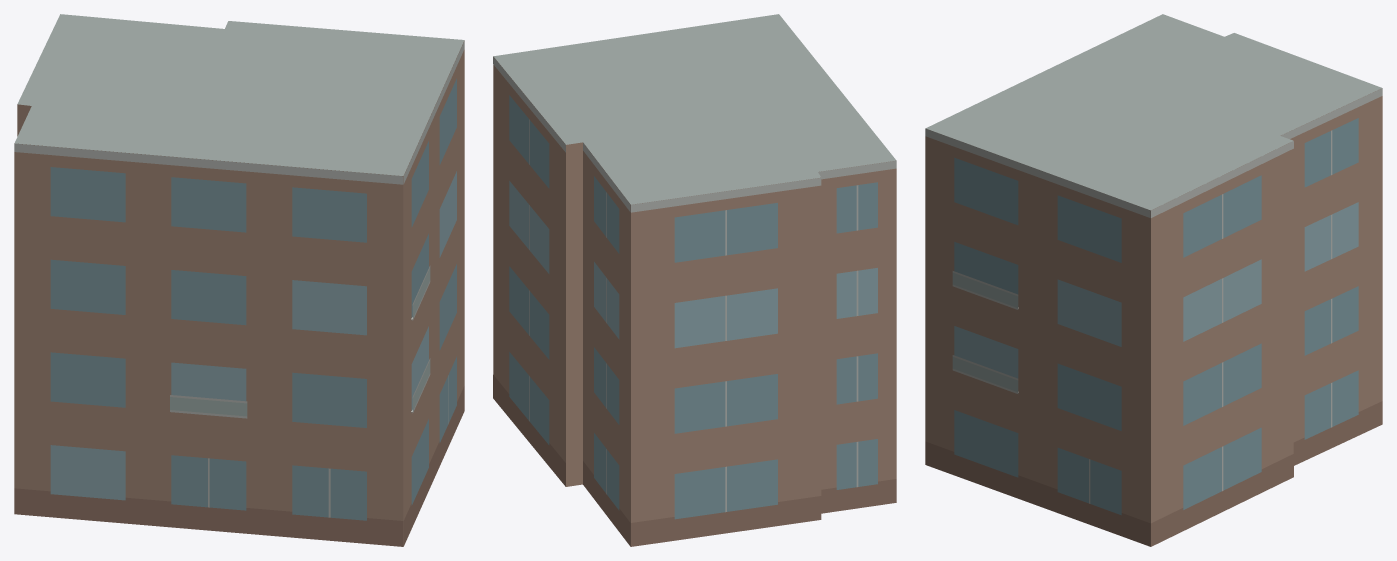
File: survey-upis-32568491.glb
The picture shows the model from 3 angles, left to right: view 1: azimuth 30°, elevation 25°; view 2: azimuth 150°, elevation 25°; view 3: azimuth 270°, elevation 25°; orthographic projection. The views are drawn at different scales.
Parts seen in each view (by area): view 1: survey-upis-32568491.tmp; view 2: survey-upis-32568491.tmp; view 3: survey-upis-32568491.tmp.
Part boxes in pixels (x1=…): survey-upis-32568491.tmp: x1=14, y1=14, x2=464, y2=546; survey-upis-32568491.tmp: x1=493, y1=14, x2=896, y2=546; survey-upis-32568491.tmp: x1=925, y1=14, x2=1382, y2=546.
Bounding box in the file's own units: 13.16 × 10.5 × 12.94.
